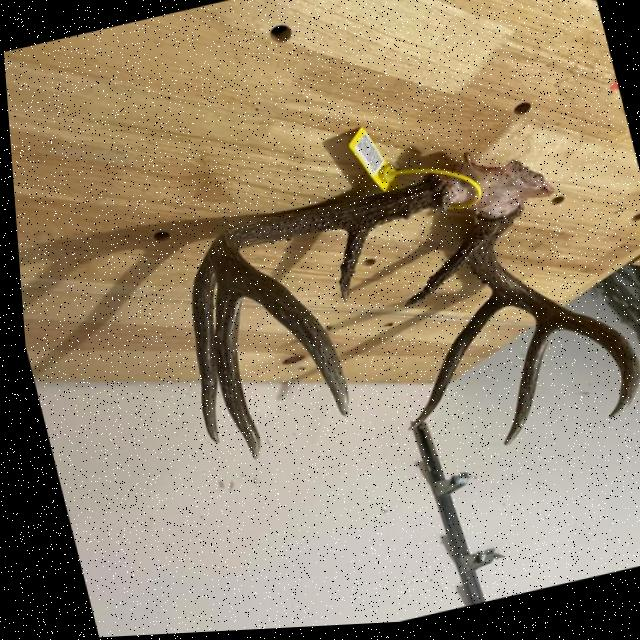L-F: (462, 209, 634, 425)
L-G1: (399, 236, 484, 313)
L-G2: (400, 297, 504, 434)
L-G3: (496, 327, 551, 450)
R-F: (204, 177, 444, 419)
R-G1: (333, 231, 368, 306)
R-G3: (208, 288, 253, 462)
